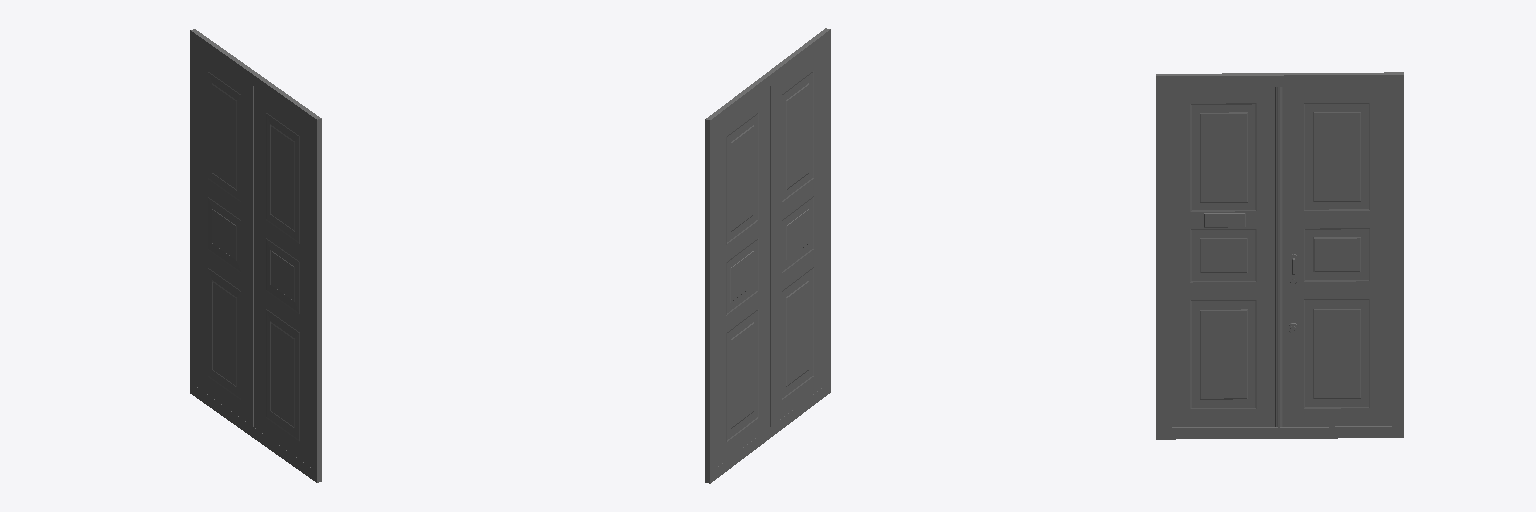
File: porta_azul.obj
3 views of the same model, side by side, from view 1: azimuth 30°, elevation 25°; view 2: azimuth 150°, elevation 25°; view 3: azimuth 270°, elevation 25° (orthographic).
Visible parts, largest first — view 1: polySurface7.001_Malha; view 2: polySurface7.001_Malha; view 3: polySurface7.001_Malha.
Part boxes in pixels (left/top/right/bottom): polySurface7.001_Malha: left=190, top=29, right=321, bottom=482; polySurface7.001_Malha: left=705, top=28, right=830, bottom=483; polySurface7.001_Malha: left=1156, top=72, right=1403, bottom=439.
Bounding box in the file's own units: 0.0567 × 2.46 × 1.52.